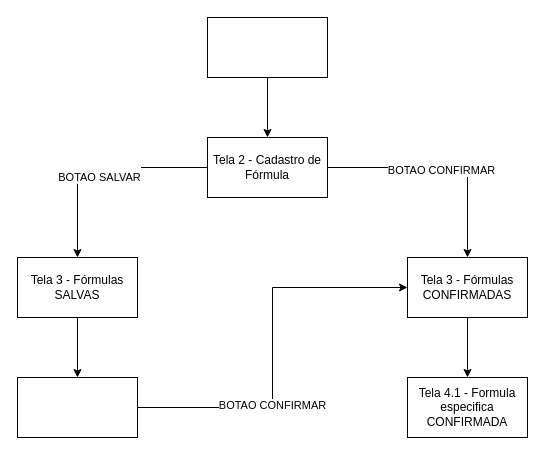
Some shapes in this 545 by 455 pixel diagram are drawn without their labels. The shapes that lost their labels are listed below. From the top down, each one's centre as x and y in pixels, then its label:
At pixel 267 47: "Tela 1 - Cadastro cliente".
At pixel 77 407: "Tela 3.1 - Formula Especifica SALVA".
